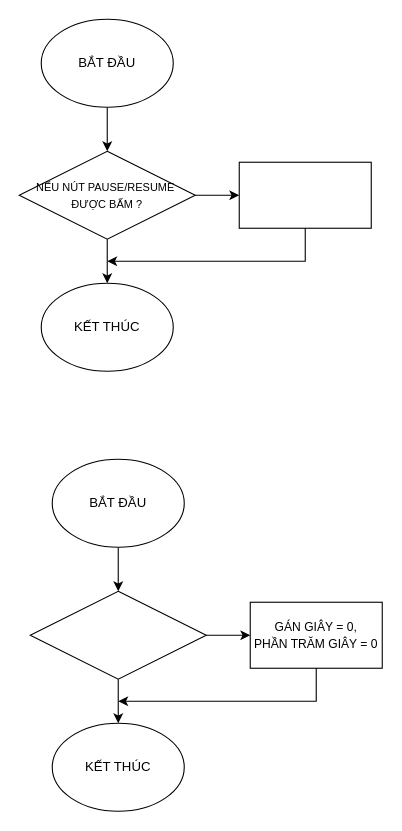
This 402x831 diagram has some shape labels left out. The shapes that lost their labels are listed below. From the top down, each one's centre as x and y in pixels, then its label:
(x=304, y=194): ĐẢO BIT TR1 CỦA TIMER1
(x=117, y=634): NẾU NÚT RESET ĐƯỢC BẤM ?
